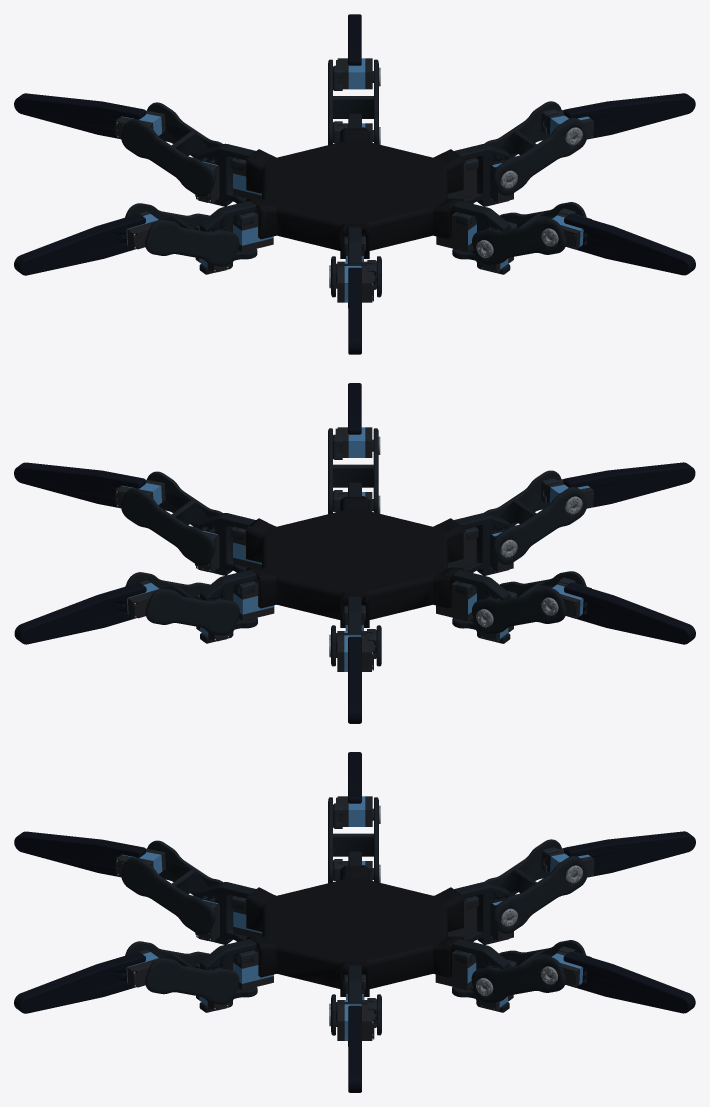
The model's file is robosoc-spider.glb.
The picture shows the model from 3 angles, top to bottom: view 1: azimuth 30°, elevation 25°; view 2: azimuth 150°, elevation 25°; view 3: azimuth 270°, elevation 25°; orthographic projection.
Visible parts, largest first — view 1: Hex_base-smaller_MeshBody1_Hex_base-smaller_1, Final_mid_leg_MeshBody1_legAssemble_5+Final_mid_leg_1, Final_mid_leg_MeshBody1_legAssemble_7+Final_mid_leg_1, Final_mid_leg_MeshBody1_legAssemble_4+Final_mid_leg_1, Final_leg_tip_MeshBody1_legAssemble_4+Final_leg_tip_1, Final_leg_tip_MeshBody1_legAssemble_3+Final_leg_tip_1, Final_mid_leg_MeshBody1_legAssemble_3+Final_mid_leg_1, Final_leg_tip_MeshBody1_legAssemble_7+Final_leg_tip_1, Final_leg_tip_MeshBody1_legAssemble_5+Final_leg_tip_1, Final_mid_leg_MeshBody1_legAssemble_2+Final_mid_leg_1, Final_leg_base_MeshBody1_legAssemble_7+Final_leg_base_1, Final_leg_base_MeshBody1_legAssemble_5+Final_leg_base_1 (+13 smaller); view 2: Hex_base-smaller_MeshBody1_Hex_base-smaller_1, Final_mid_leg_MeshBody1_legAssemble_7+Final_mid_leg_1, Final_mid_leg_MeshBody1_legAssemble_6+Final_mid_leg_1, Final_mid_leg_MeshBody1_legAssemble_2+Final_mid_leg_1, Final_leg_tip_MeshBody1_legAssemble_2+Final_leg_tip_1, Final_leg_tip_MeshBody1_legAssemble_4+Final_leg_tip_1, Final_mid_leg_MeshBody1_legAssemble_4+Final_mid_leg_1, Final_leg_tip_MeshBody1_legAssemble_6+Final_leg_tip_1, Final_leg_tip_MeshBody1_legAssemble_7+Final_leg_tip_1, Final_mid_leg_MeshBody1_legAssemble_3+Final_mid_leg_1, Final_leg_base_MeshBody1_legAssemble_7+Final_leg_base_1, Final_leg_base_MeshBody1_legAssemble_6+Final_leg_base_1 (+13 smaller); view 3: Hex_base-smaller_MeshBody1_Hex_base-smaller_1, Final_mid_leg_MeshBody1_legAssemble_6+Final_mid_leg_1, Final_mid_leg_MeshBody1_legAssemble_5+Final_mid_leg_1, Final_mid_leg_MeshBody1_legAssemble_3+Final_mid_leg_1, Final_leg_tip_MeshBody1_legAssemble_2+Final_leg_tip_1, Final_leg_tip_MeshBody1_legAssemble_3+Final_leg_tip_1, Final_mid_leg_MeshBody1_legAssemble_2+Final_mid_leg_1, Final_leg_tip_MeshBody1_legAssemble_6+Final_leg_tip_1, Final_leg_tip_MeshBody1_legAssemble_5+Final_leg_tip_1, Final_mid_leg_MeshBody1_legAssemble_4+Final_mid_leg_1, Final_leg_base_MeshBody1_legAssemble_5+Final_leg_base_1, Final_leg_base_MeshBody1_legAssemble_6+Final_leg_base_1 (+13 smaller).
Boxes of the visible parts, box(x1,y1,x2,y2) form: Hex_base-smaller_MeshBody1_Hex_base-smaller_1: box(246, 128, 463, 258); Final_mid_leg_MeshBody1_legAssemble_5+Final_mid_leg_1: box(121, 102, 233, 196); Final_mid_leg_MeshBody1_legAssemble_7+Final_mid_leg_1: box(476, 101, 587, 195); Final_mid_leg_MeshBody1_legAssemble_4+Final_mid_leg_1: box(125, 203, 239, 266); Final_leg_tip_MeshBody1_legAssemble_4+Final_leg_tip_1: box(14, 213, 145, 275); Final_leg_tip_MeshBody1_legAssemble_3+Final_leg_tip_1: box(564, 213, 695, 275); Final_mid_leg_MeshBody1_legAssemble_3+Final_mid_leg_1: box(472, 202, 586, 265); Final_leg_tip_MeshBody1_legAssemble_7+Final_leg_tip_1: box(563, 93, 695, 139); Final_leg_tip_MeshBody1_legAssemble_5+Final_leg_tip_1: box(14, 93, 145, 138); Final_mid_leg_MeshBody1_legAssemble_2+Final_mid_leg_1: box(328, 59, 378, 144); Final_leg_base_MeshBody1_legAssemble_7+Final_leg_base_1: box(454, 144, 509, 206); Final_leg_base_MeshBody1_legAssemble_5+Final_leg_base_1: box(199, 143, 255, 206); Hex_base-smaller_MeshBody1_Hex_base-smaller_1: box(246, 497, 463, 627); Final_mid_leg_MeshBody1_legAssemble_7+Final_mid_leg_1: box(121, 471, 233, 565); Final_mid_leg_MeshBody1_legAssemble_6+Final_mid_leg_1: box(476, 470, 586, 564); Final_mid_leg_MeshBody1_legAssemble_2+Final_mid_leg_1: box(125, 572, 239, 635); Final_leg_tip_MeshBody1_legAssemble_2+Final_leg_tip_1: box(14, 582, 146, 644); Final_leg_tip_MeshBody1_legAssemble_4+Final_leg_tip_1: box(564, 582, 695, 644); Final_mid_leg_MeshBody1_legAssemble_4+Final_mid_leg_1: box(472, 571, 586, 634); Final_leg_tip_MeshBody1_legAssemble_6+Final_leg_tip_1: box(563, 462, 695, 508); Final_leg_tip_MeshBody1_legAssemble_7+Final_leg_tip_1: box(14, 462, 145, 507); Final_mid_leg_MeshBody1_legAssemble_3+Final_mid_leg_1: box(328, 428, 378, 513); Final_leg_base_MeshBody1_legAssemble_7+Final_leg_base_1: box(199, 513, 255, 575); Final_leg_base_MeshBody1_legAssemble_6+Final_leg_base_1: box(454, 513, 509, 575); Hex_base-smaller_MeshBody1_Hex_base-smaller_1: box(246, 866, 463, 996); Final_mid_leg_MeshBody1_legAssemble_6+Final_mid_leg_1: box(121, 840, 233, 934); Final_mid_leg_MeshBody1_legAssemble_5+Final_mid_leg_1: box(476, 839, 587, 933); Final_mid_leg_MeshBody1_legAssemble_3+Final_mid_leg_1: box(125, 941, 239, 1004); Final_leg_tip_MeshBody1_legAssemble_2+Final_leg_tip_1: box(563, 951, 695, 1013); Final_leg_tip_MeshBody1_legAssemble_3+Final_leg_tip_1: box(14, 952, 145, 1013); Final_mid_leg_MeshBody1_legAssemble_2+Final_mid_leg_1: box(471, 940, 586, 1003); Final_leg_tip_MeshBody1_legAssemble_6+Final_leg_tip_1: box(14, 831, 146, 876); Final_leg_tip_MeshBody1_legAssemble_5+Final_leg_tip_1: box(564, 831, 695, 877); Final_mid_leg_MeshBody1_legAssemble_4+Final_mid_leg_1: box(328, 797, 378, 883); Final_leg_base_MeshBody1_legAssemble_5+Final_leg_base_1: box(454, 882, 510, 944); Final_leg_base_MeshBody1_legAssemble_6+Final_leg_base_1: box(200, 882, 255, 944).
Size of the model in its own units: 0.8504 by 0.0897 by 0.7423.
